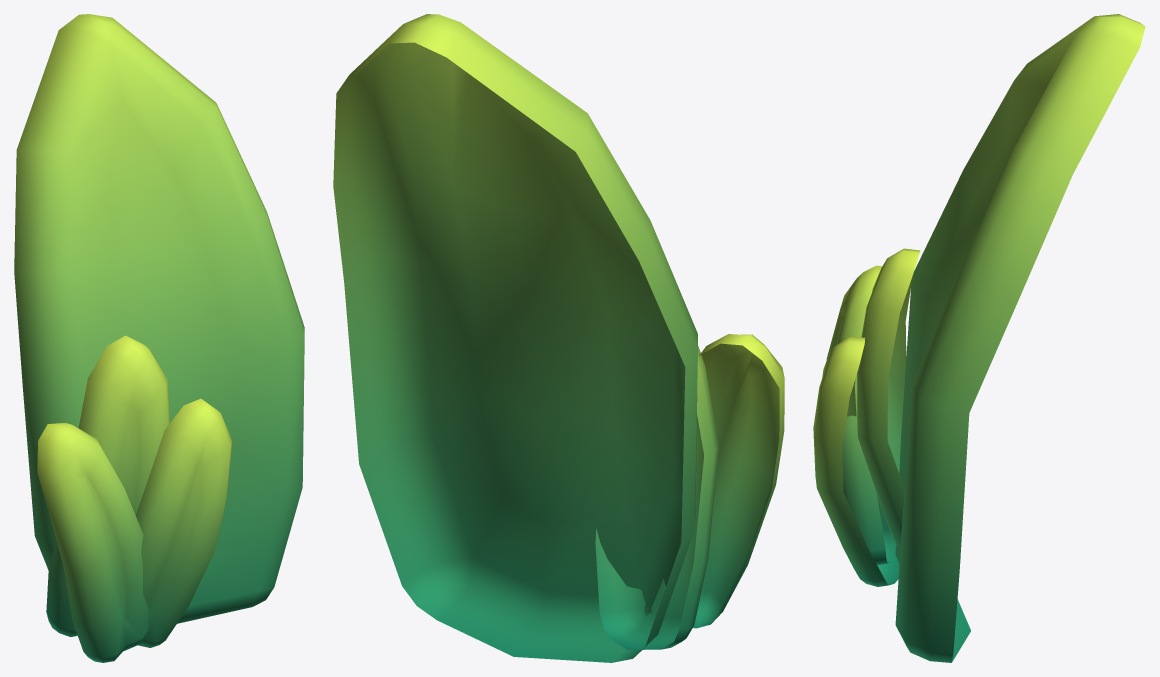
The model's file is grass_v1.fbx.
The picture shows the model from 3 angles, left to right: view 1: azimuth 30°, elevation 25°; view 2: azimuth 150°, elevation 25°; view 3: azimuth 270°, elevation 25°; orthographic projection. The views are drawn at different scales.
Visible parts, largest first — view 1: grass3; view 2: grass3; view 3: grass3.
Part boxes in pixels (bbox=[...]): grass3: bbox=[14, 14, 304, 662]; grass3: bbox=[333, 14, 784, 662]; grass3: bbox=[813, 14, 1145, 662].
Size of the model in its own units: 94.75 by 166 by 81.64.
